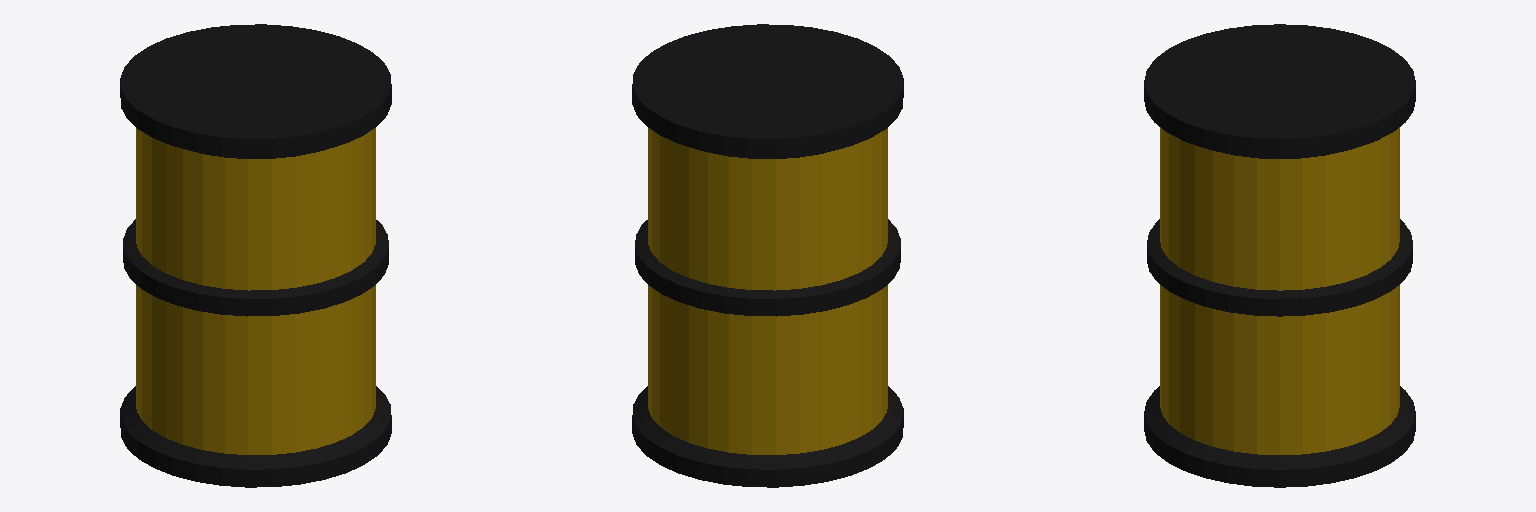
File: barrel.obj
The picture shows the model from 3 angles: view 1: azimuth 30°, elevation 25°; view 2: azimuth 150°, elevation 25°; view 3: azimuth 270°, elevation 25°; orthographic projection.
Visible parts, largest first — view 1: Cylinder.004; view 2: Cylinder.004; view 3: Cylinder.004.
Part boxes in pixels (bbox=[...]): Cylinder.004: bbox=[120, 24, 391, 487]; Cylinder.004: bbox=[632, 24, 903, 487]; Cylinder.004: bbox=[1144, 24, 1415, 487].
Size of the model in its own units: 2.26 by 3.2 by 2.26.